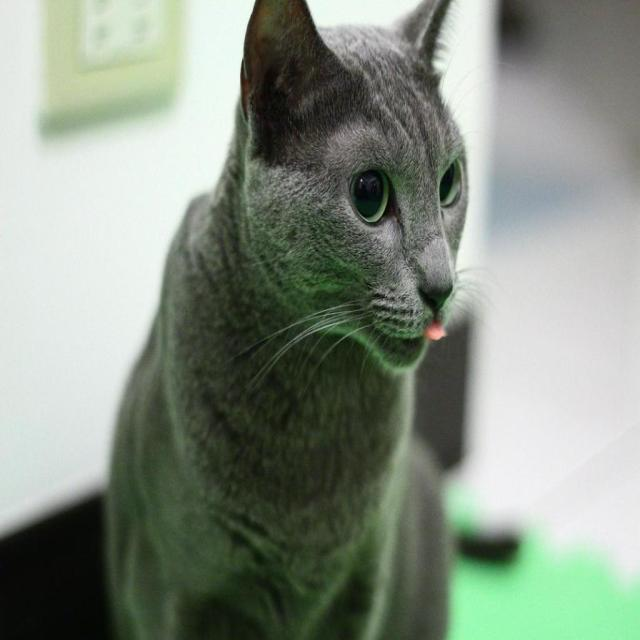Cat: (100, 0, 498, 638)
